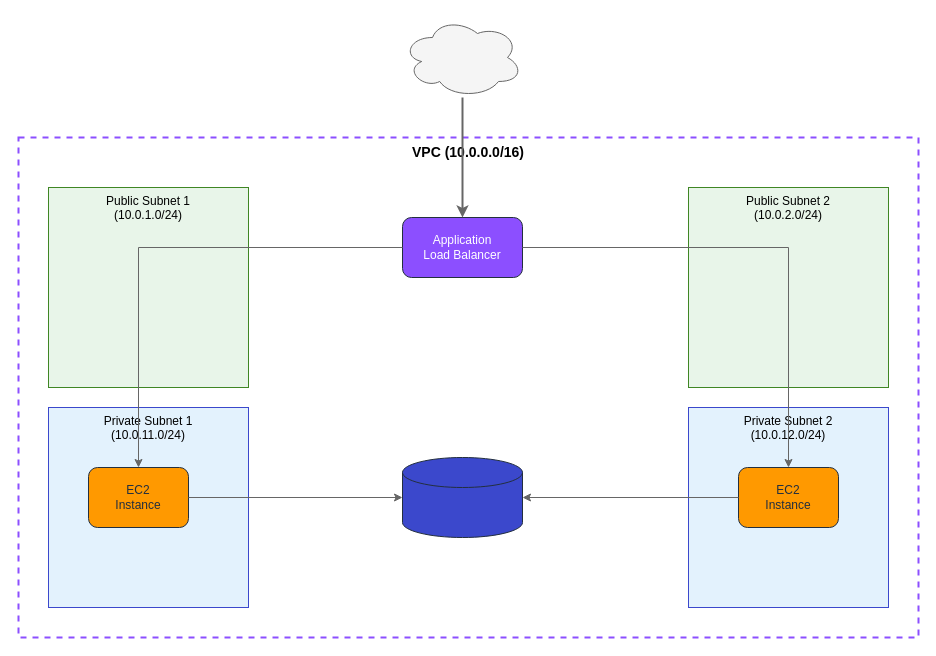
This 936x656 diagram has some shape labels left out. The shapes that lost their labels are listed below. From the top down, each one's centre as x and y in pixels, then its label:
the point at 462,57: Internet
the point at 462,497: RDS (Multi-AZ)
